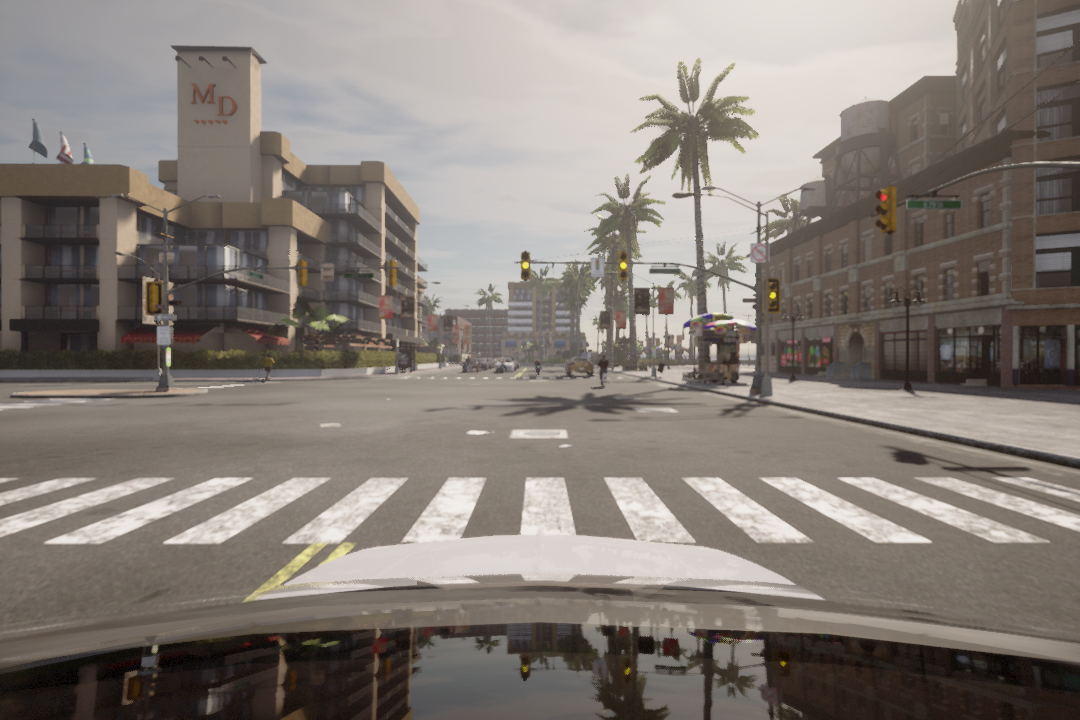TrafficLight: (873, 181, 898, 236), (763, 280, 784, 313), (519, 249, 531, 281), (617, 251, 630, 279)
TrafficSign: (751, 242, 768, 262)
walkside: (1, 469, 1080, 560)
